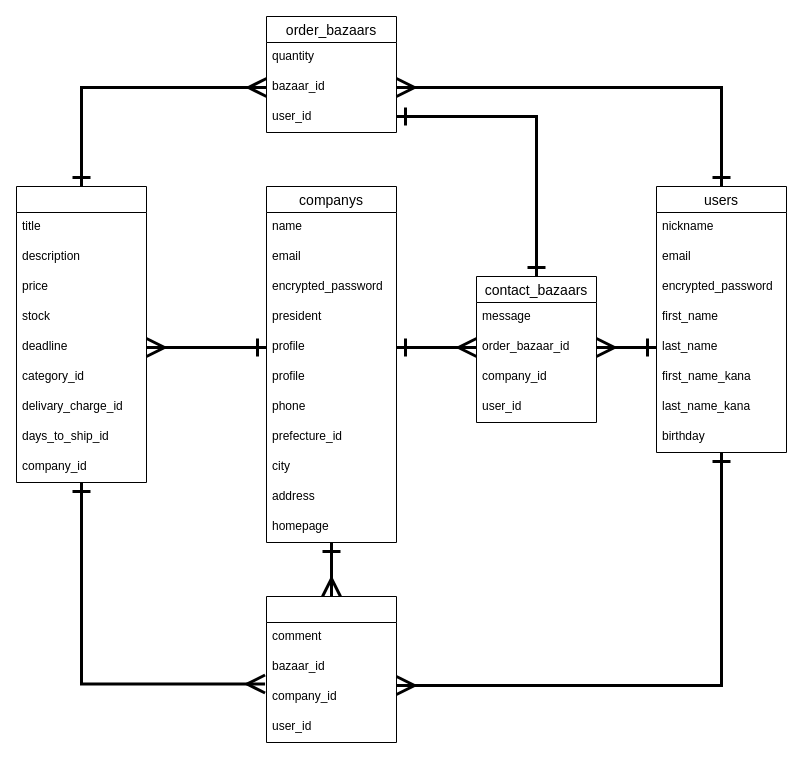
The diagram is 803 pixels wide and 759 high, and some of its shapes have lost their labels. The box of each missing label's shape, as (x1, y1, x2, y2) in pixels:
bazaars: (16, 186, 146, 482)
review_bazaars: (266, 596, 396, 742)
